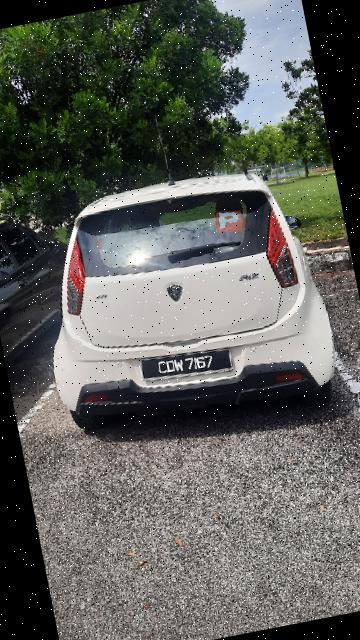License_Plate: (133, 339, 240, 391)
car: (21, 152, 353, 459)
